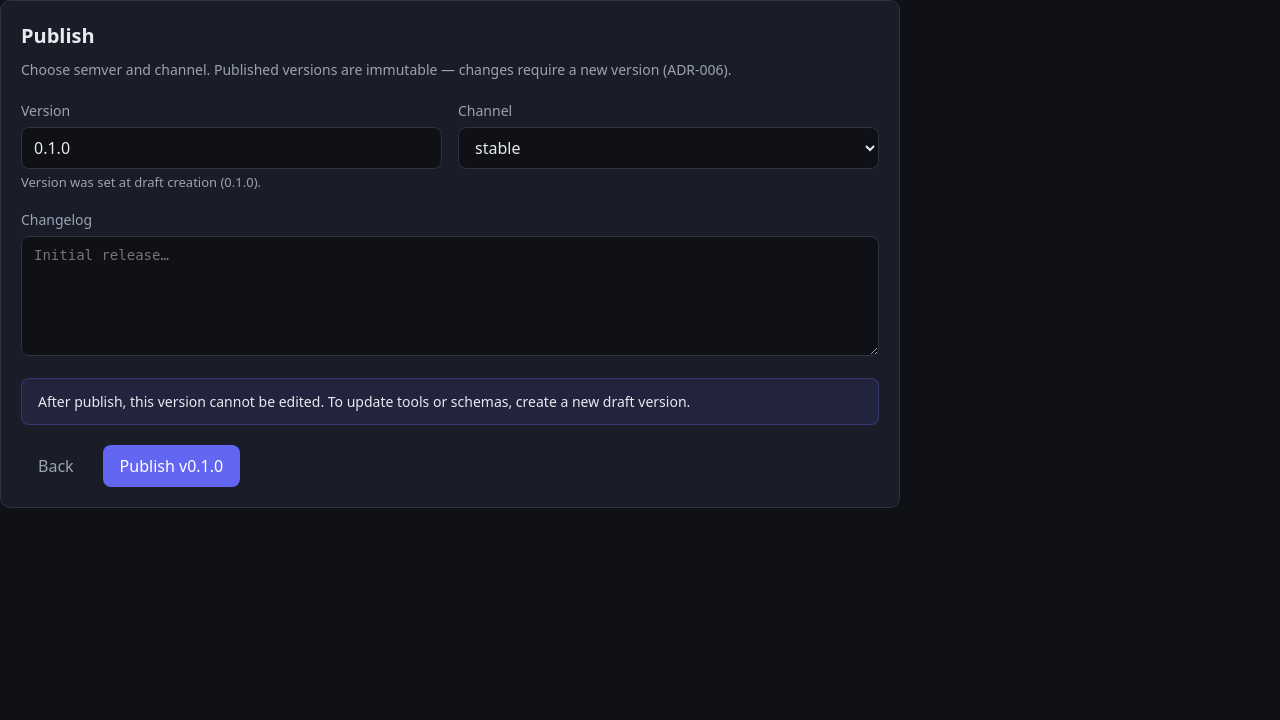
Test: PublishStep › publishes version when admin and validation passed
The width and height of the screenshot is (1280, 720).
Type "Initial public release" into the text box labelled "Changelog". click: coordinates (450, 296)
box: [21, 236, 879, 356]
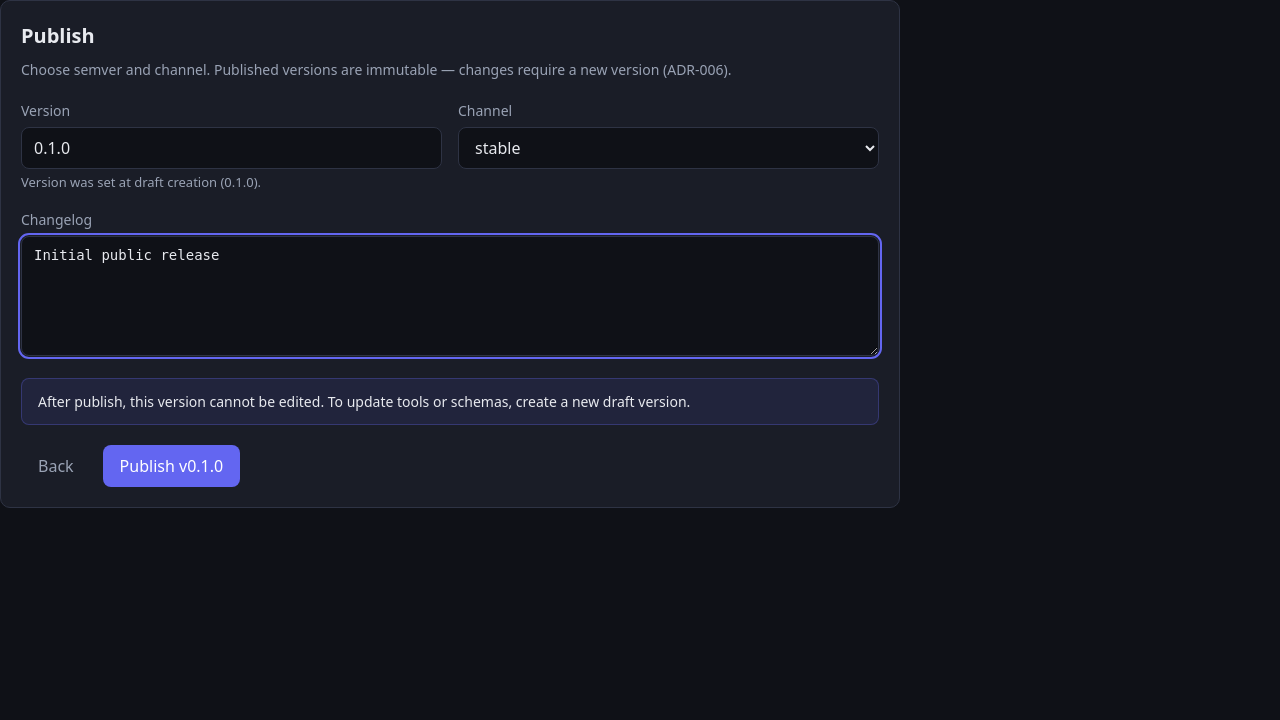
Click the button "Publish v0.1.0". click: coordinates (171, 466)
box: [103, 444, 240, 486]
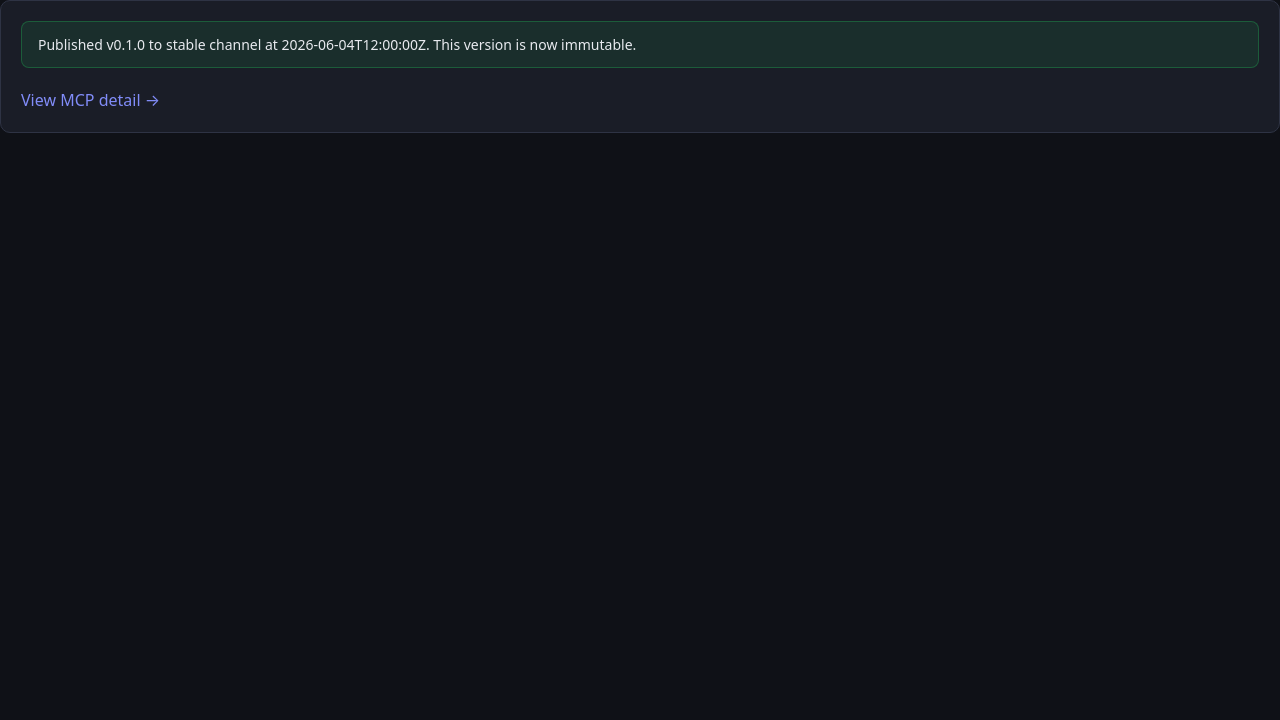
Expected: the text "Published v0.1.0" is shown, [21, 21, 1259, 68]
